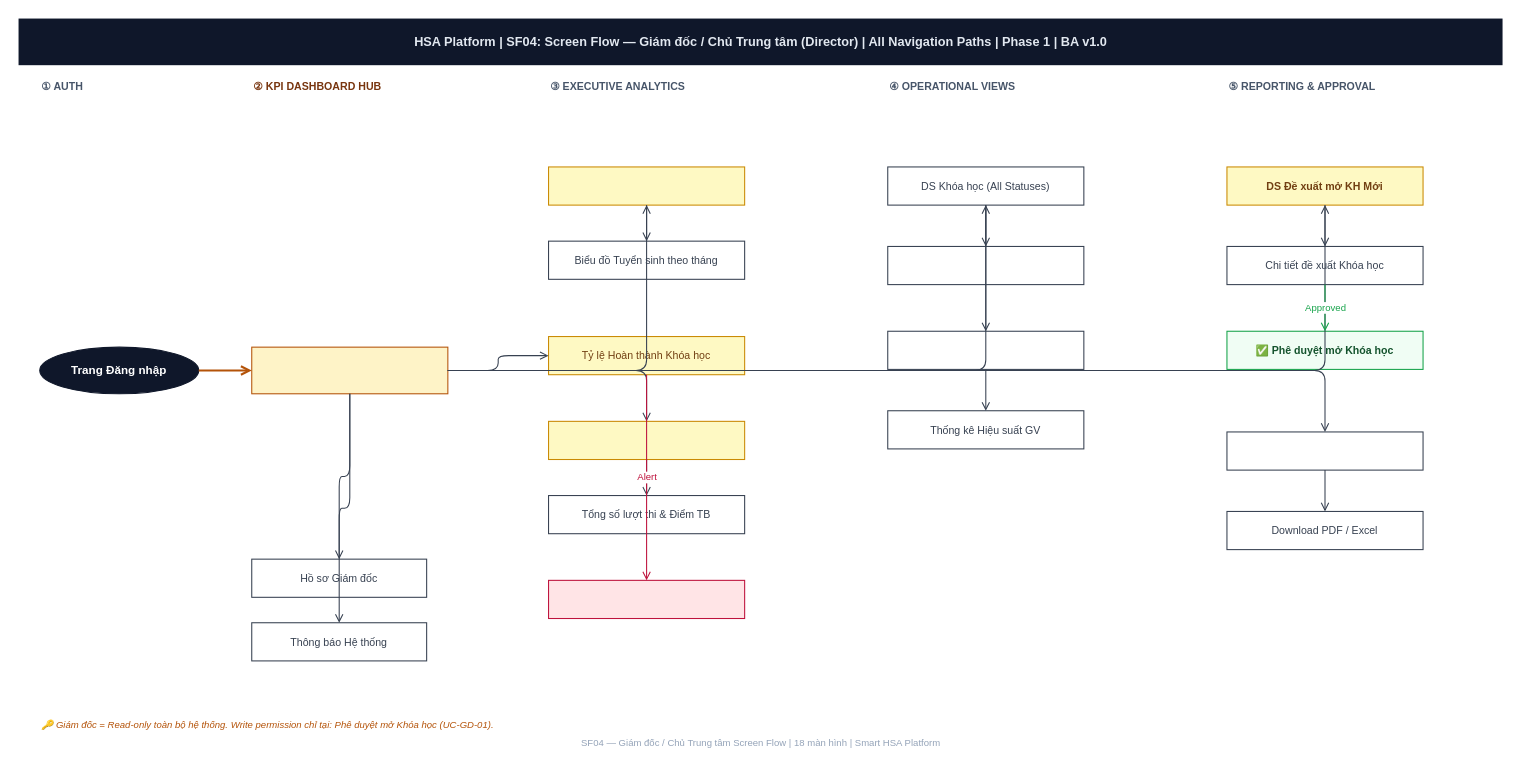
The diagram is 1520 pixels wide and 778 high, and some of its shapes have lost their labels. Here are the shapes that lost their labels. From the top down, the box of each, then its label:
(547, 166, 745, 205): Doanh thu & Tuyển sinh
(887, 245, 1084, 285): Thống kê theo Khóa học (Compare)
(887, 330, 1084, 369): DS Giảng viên & Phân công
(251, 346, 448, 394): Dashboard KPI Trung tâm
(547, 420, 745, 460): Phổ điểm thi Toàn Trung tâm
(1226, 431, 1423, 470): Trang Xuất Báo cáo Tổng hợp
(547, 579, 745, 619): Cảnh báo KH chưa đủ HV
